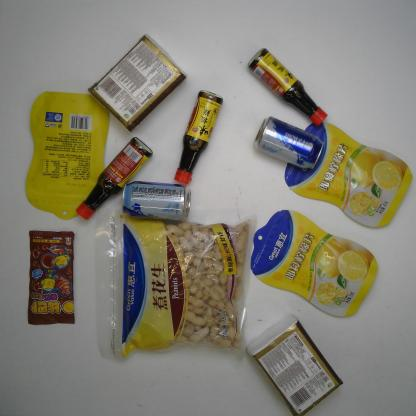Alcohol: (252, 116, 326, 170), (121, 181, 191, 222)
Candy: (26, 230, 76, 324)
Dried Food: (113, 214, 248, 356)
Dried Fruit: (250, 209, 378, 316), (284, 123, 412, 229), (25, 91, 110, 219)
Seasoner: (75, 137, 154, 220), (248, 48, 328, 127), (172, 90, 223, 185)
Tissue: (245, 314, 343, 415), (87, 34, 188, 132)
